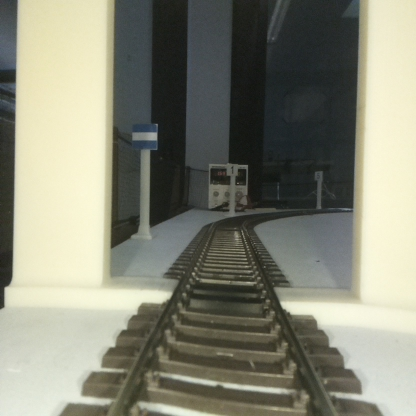start: (132, 124, 157, 237)
